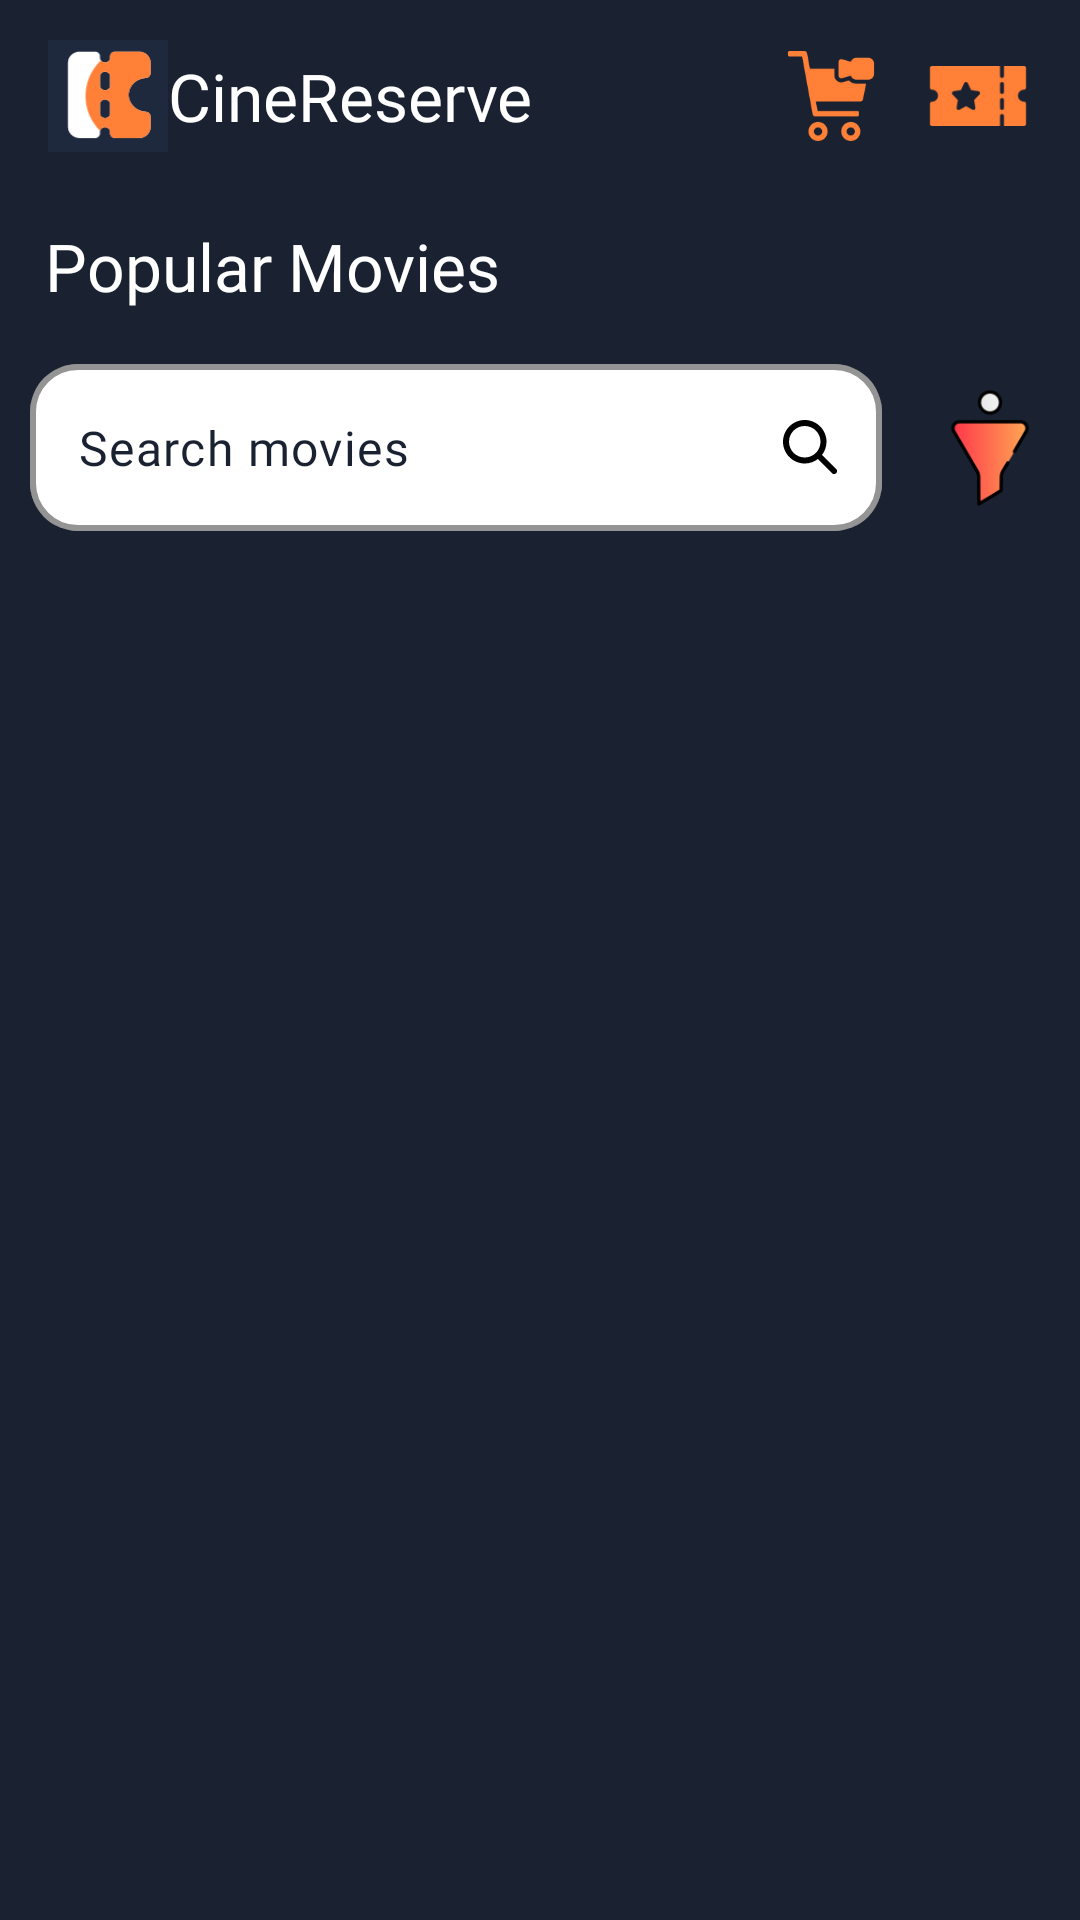

Icons on this 1080px×1920px Android screen, each with its box as (x1, y1, x2, y2):
cart: (788, 51, 874, 141)
